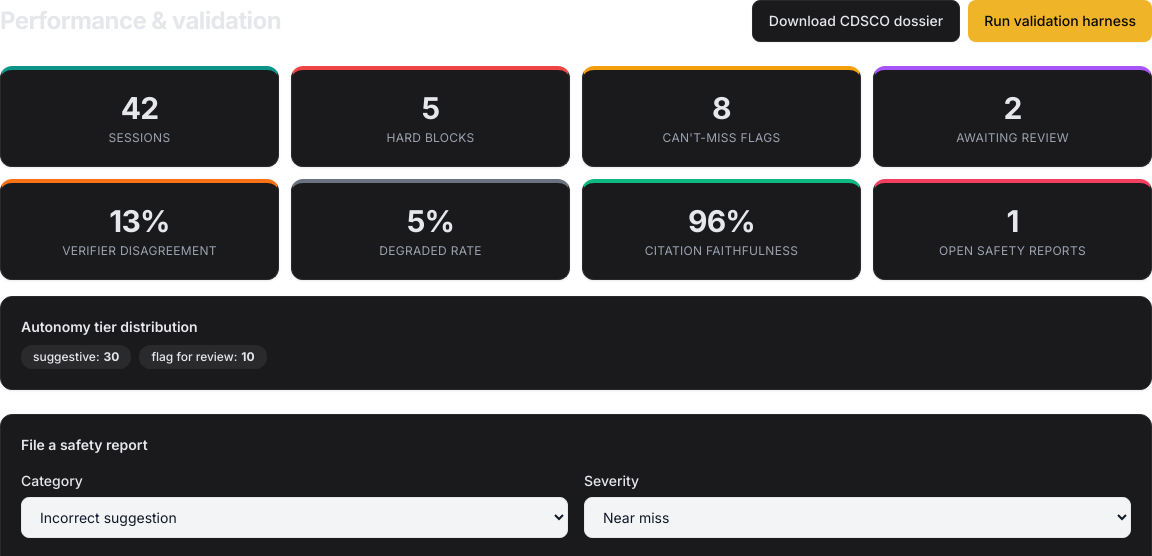
Test: MetricsPage › reports a validation-harness failure
This screenshot has width=1152, height=556.
expect the text "42" is shown: met, box x1=121 y1=90 x2=158 y2=126
Click the button "Run validation harness".
click(1060, 21)  # box x1=968 y1=0 x2=1151 y2=42
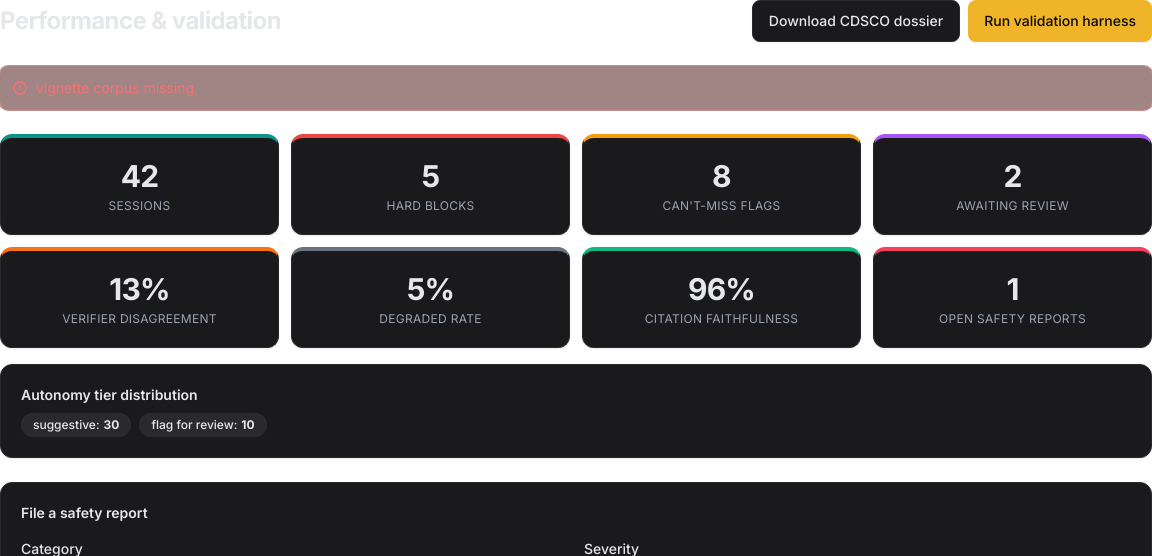
expect the text "vignette corpus missing" is shown: met, box x1=36 y1=78 x2=194 y2=98
